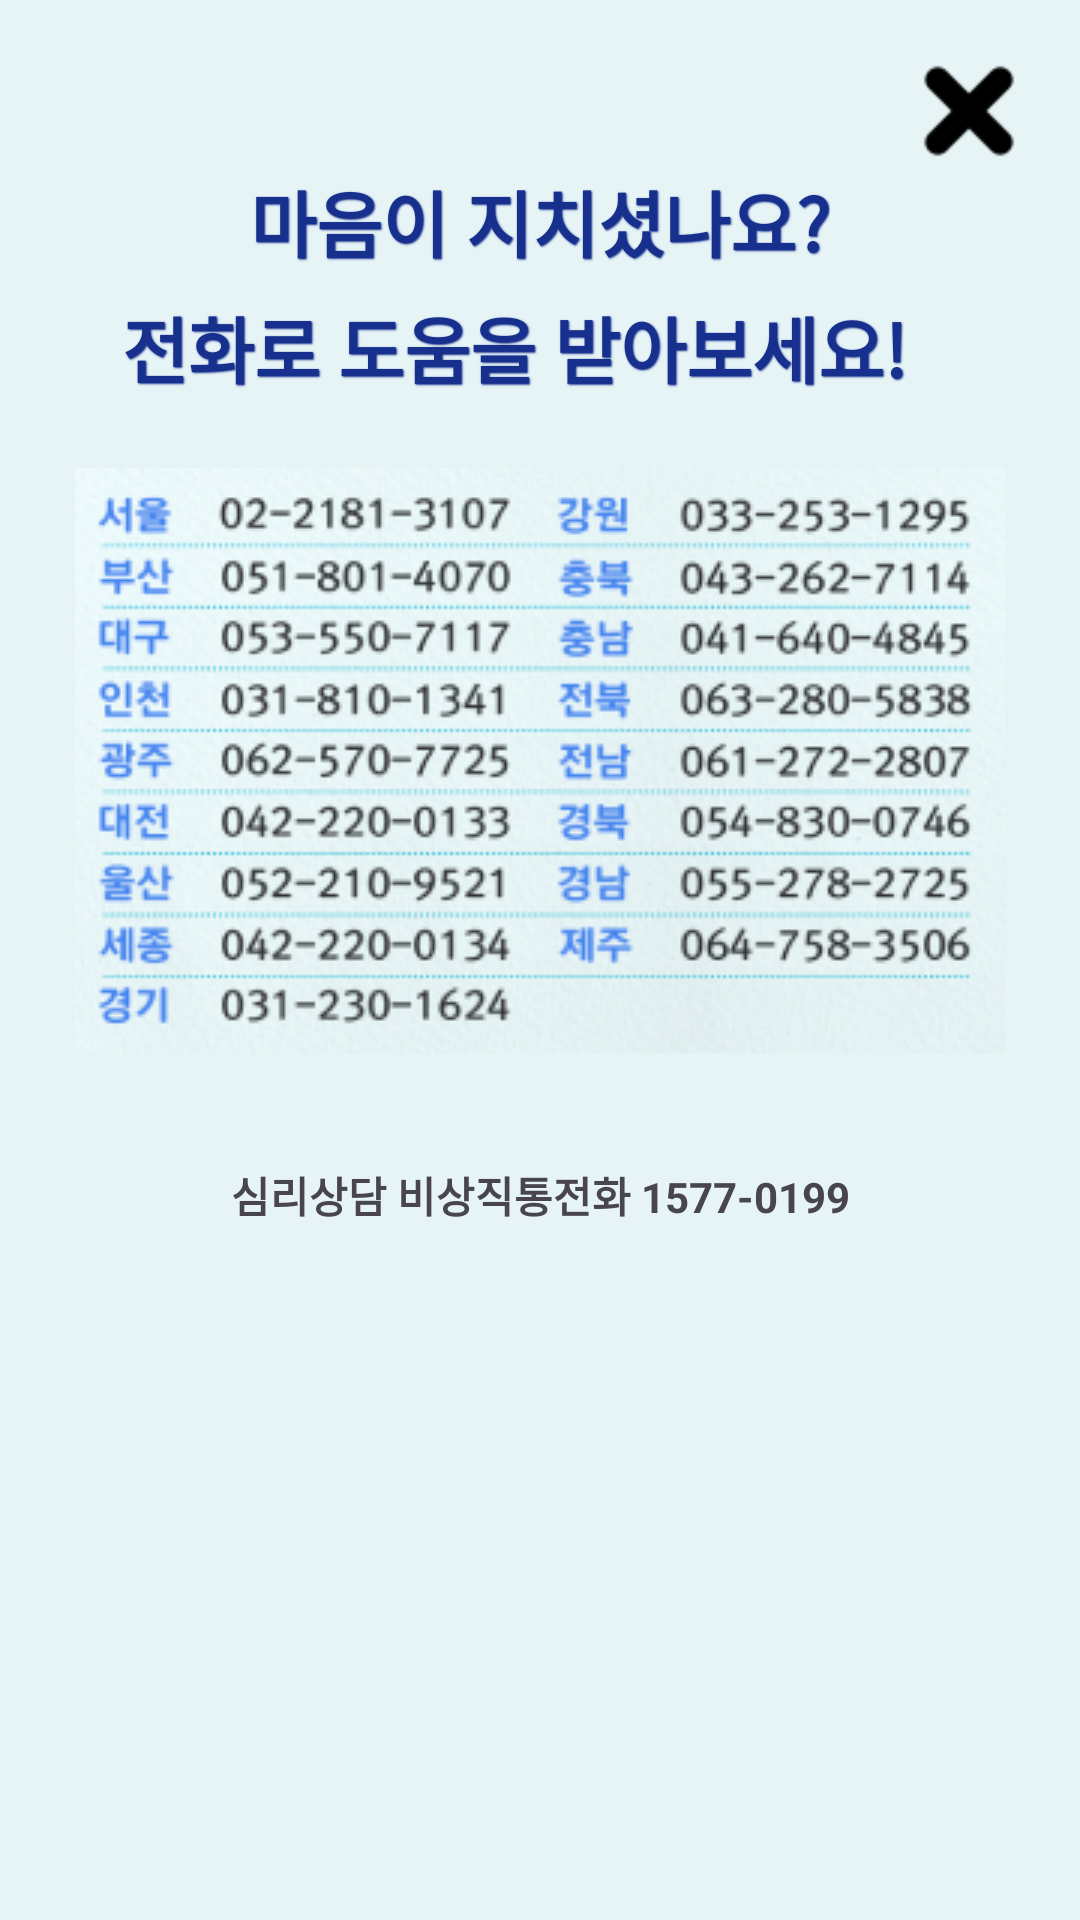

Named icons in this screenshot (1080px x 1920px) and their bounding boxes, [x1,y1,x2,y2]:
popup exit: [924,66,1014,156]
